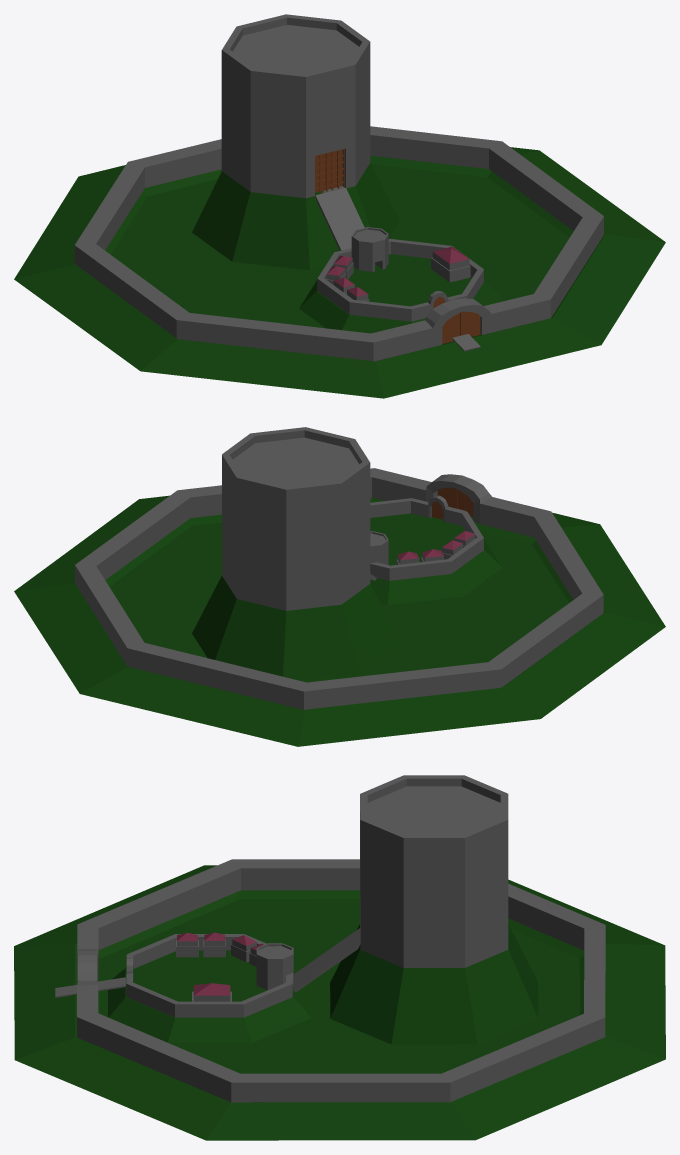
The model's file is Keep - Motte & Bailey - Stone.fbx.
3 renders of one model, top to bottom at view 1: azimuth 30°, elevation 25°; view 2: azimuth 150°, elevation 25°; view 3: azimuth 270°, elevation 25°, orthographic. The views are drawn at different scales.
Visible parts, largest first — view 1: Moat, Stone_Wall, Keep, Motte, City_Wall, Pathway, Gate_House, Portculis; view 2: Moat, Stone_Wall, Keep, Motte, City_Wall, Gate_House; view 3: Moat, Stone_Wall, Keep, Motte, City_Wall, Pathway, Gate_House.
Part boxes in pixels (<box>): Moat: <box>14,147,665,398</box>; Stone_Wall: <box>74,126,603,361</box>; Keep: <box>221,14,470,301</box>; Motte: <box>192,163,502,333</box>; City_Wall: <box>317,239,483,321</box>; Pathway: <box>315,188,480,351</box>; Gate_House: <box>351,227,388,271</box>; Portculis: <box>315,148,344,193</box>; Moat: <box>14,495,665,746</box>; Stone_Wall: <box>75,468,603,709</box>; Keep: <box>222,427,475,610</box>; Motte: <box>192,513,502,680</box>; City_Wall: <box>370,495,483,580</box>; Gate_House: <box>370,531,388,564</box>; Moat: <box>14,865,665,1140</box>; Stone_Wall: <box>77,859,605,1102</box>; Keep: <box>176,775,508,1001</box>; Motte: <box>108,924,538,1044</box>; City_Wall: <box>126,934,292,1017</box>; Pathway: <box>55,928,360,997</box>; Gate_House: <box>256,943,293,990</box>.
Size of the model in its own units: 9.77 by 3.24 by 9.77.
